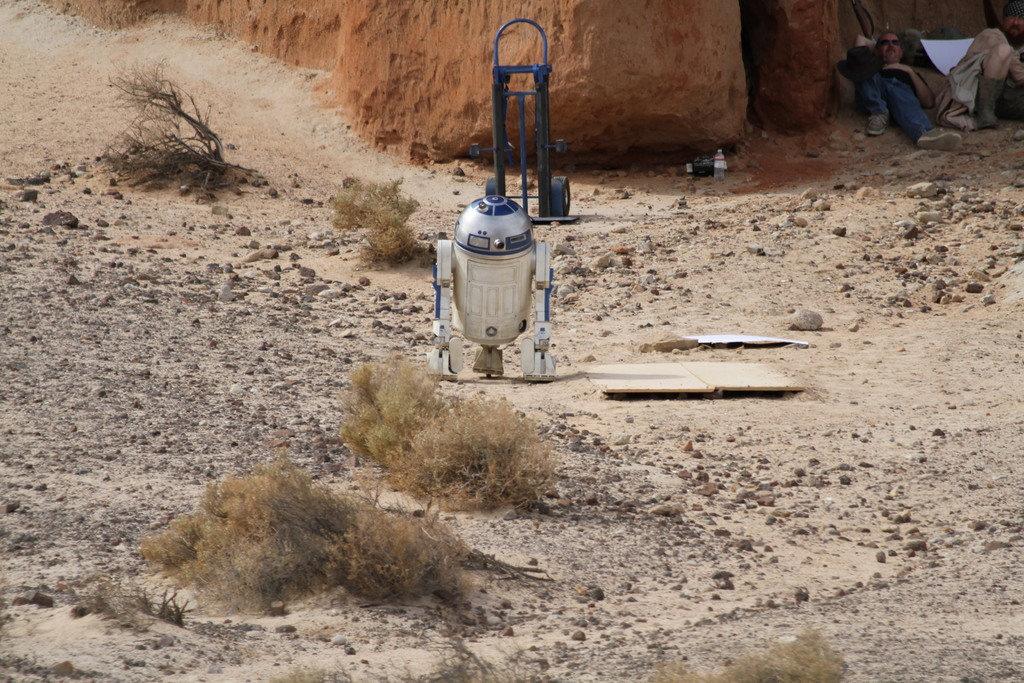Person: (934, 0, 1024, 129)
